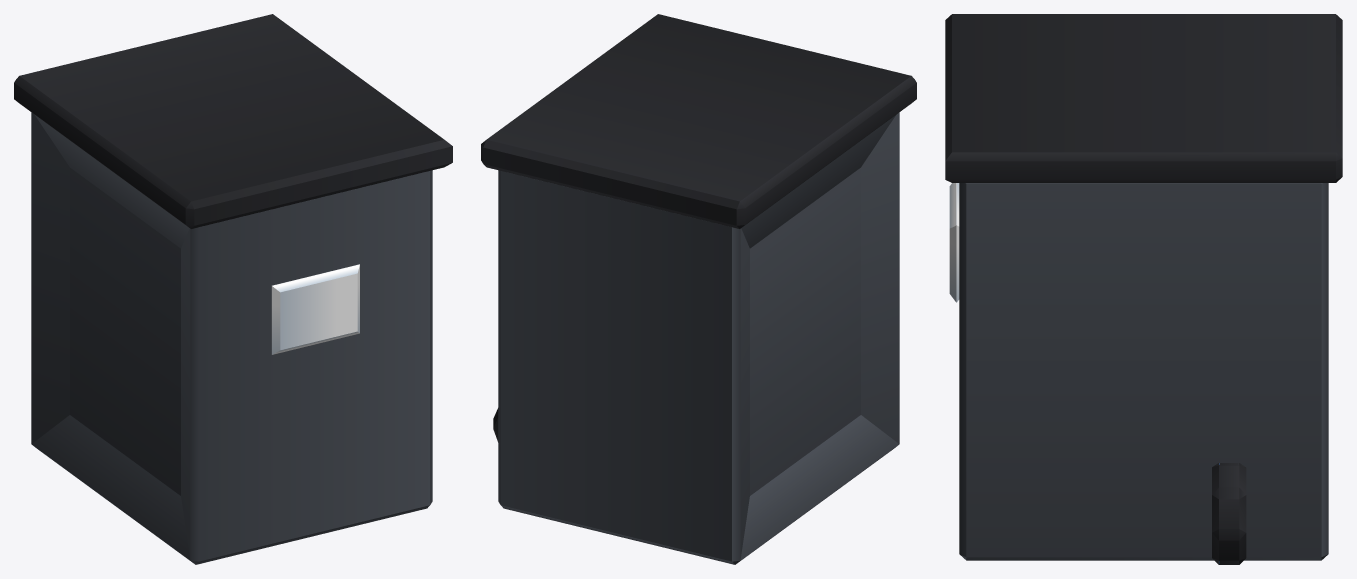
The model's file is dt_wheelie_bin.fbx.
3 renders of one model, left to right at view 1: azimuth 30°, elevation 25°; view 2: azimuth 150°, elevation 25°; view 3: azimuth 270°, elevation 25°, orthographic. The views are drawn at different scales.
Visible parts, largest first — view 1: dt_wheelie_bin; view 2: dt_wheelie_bin; view 3: dt_wheelie_bin.
Boxes of the visible parts, left/top/right/bottom form: dt_wheelie_bin: left=14, top=14, right=452, bottom=564; dt_wheelie_bin: left=481, top=14, right=916, bottom=564; dt_wheelie_bin: left=945, top=14, right=1342, bottom=564.
Bounding box in the file's own units: 291 × 350 × 304.
